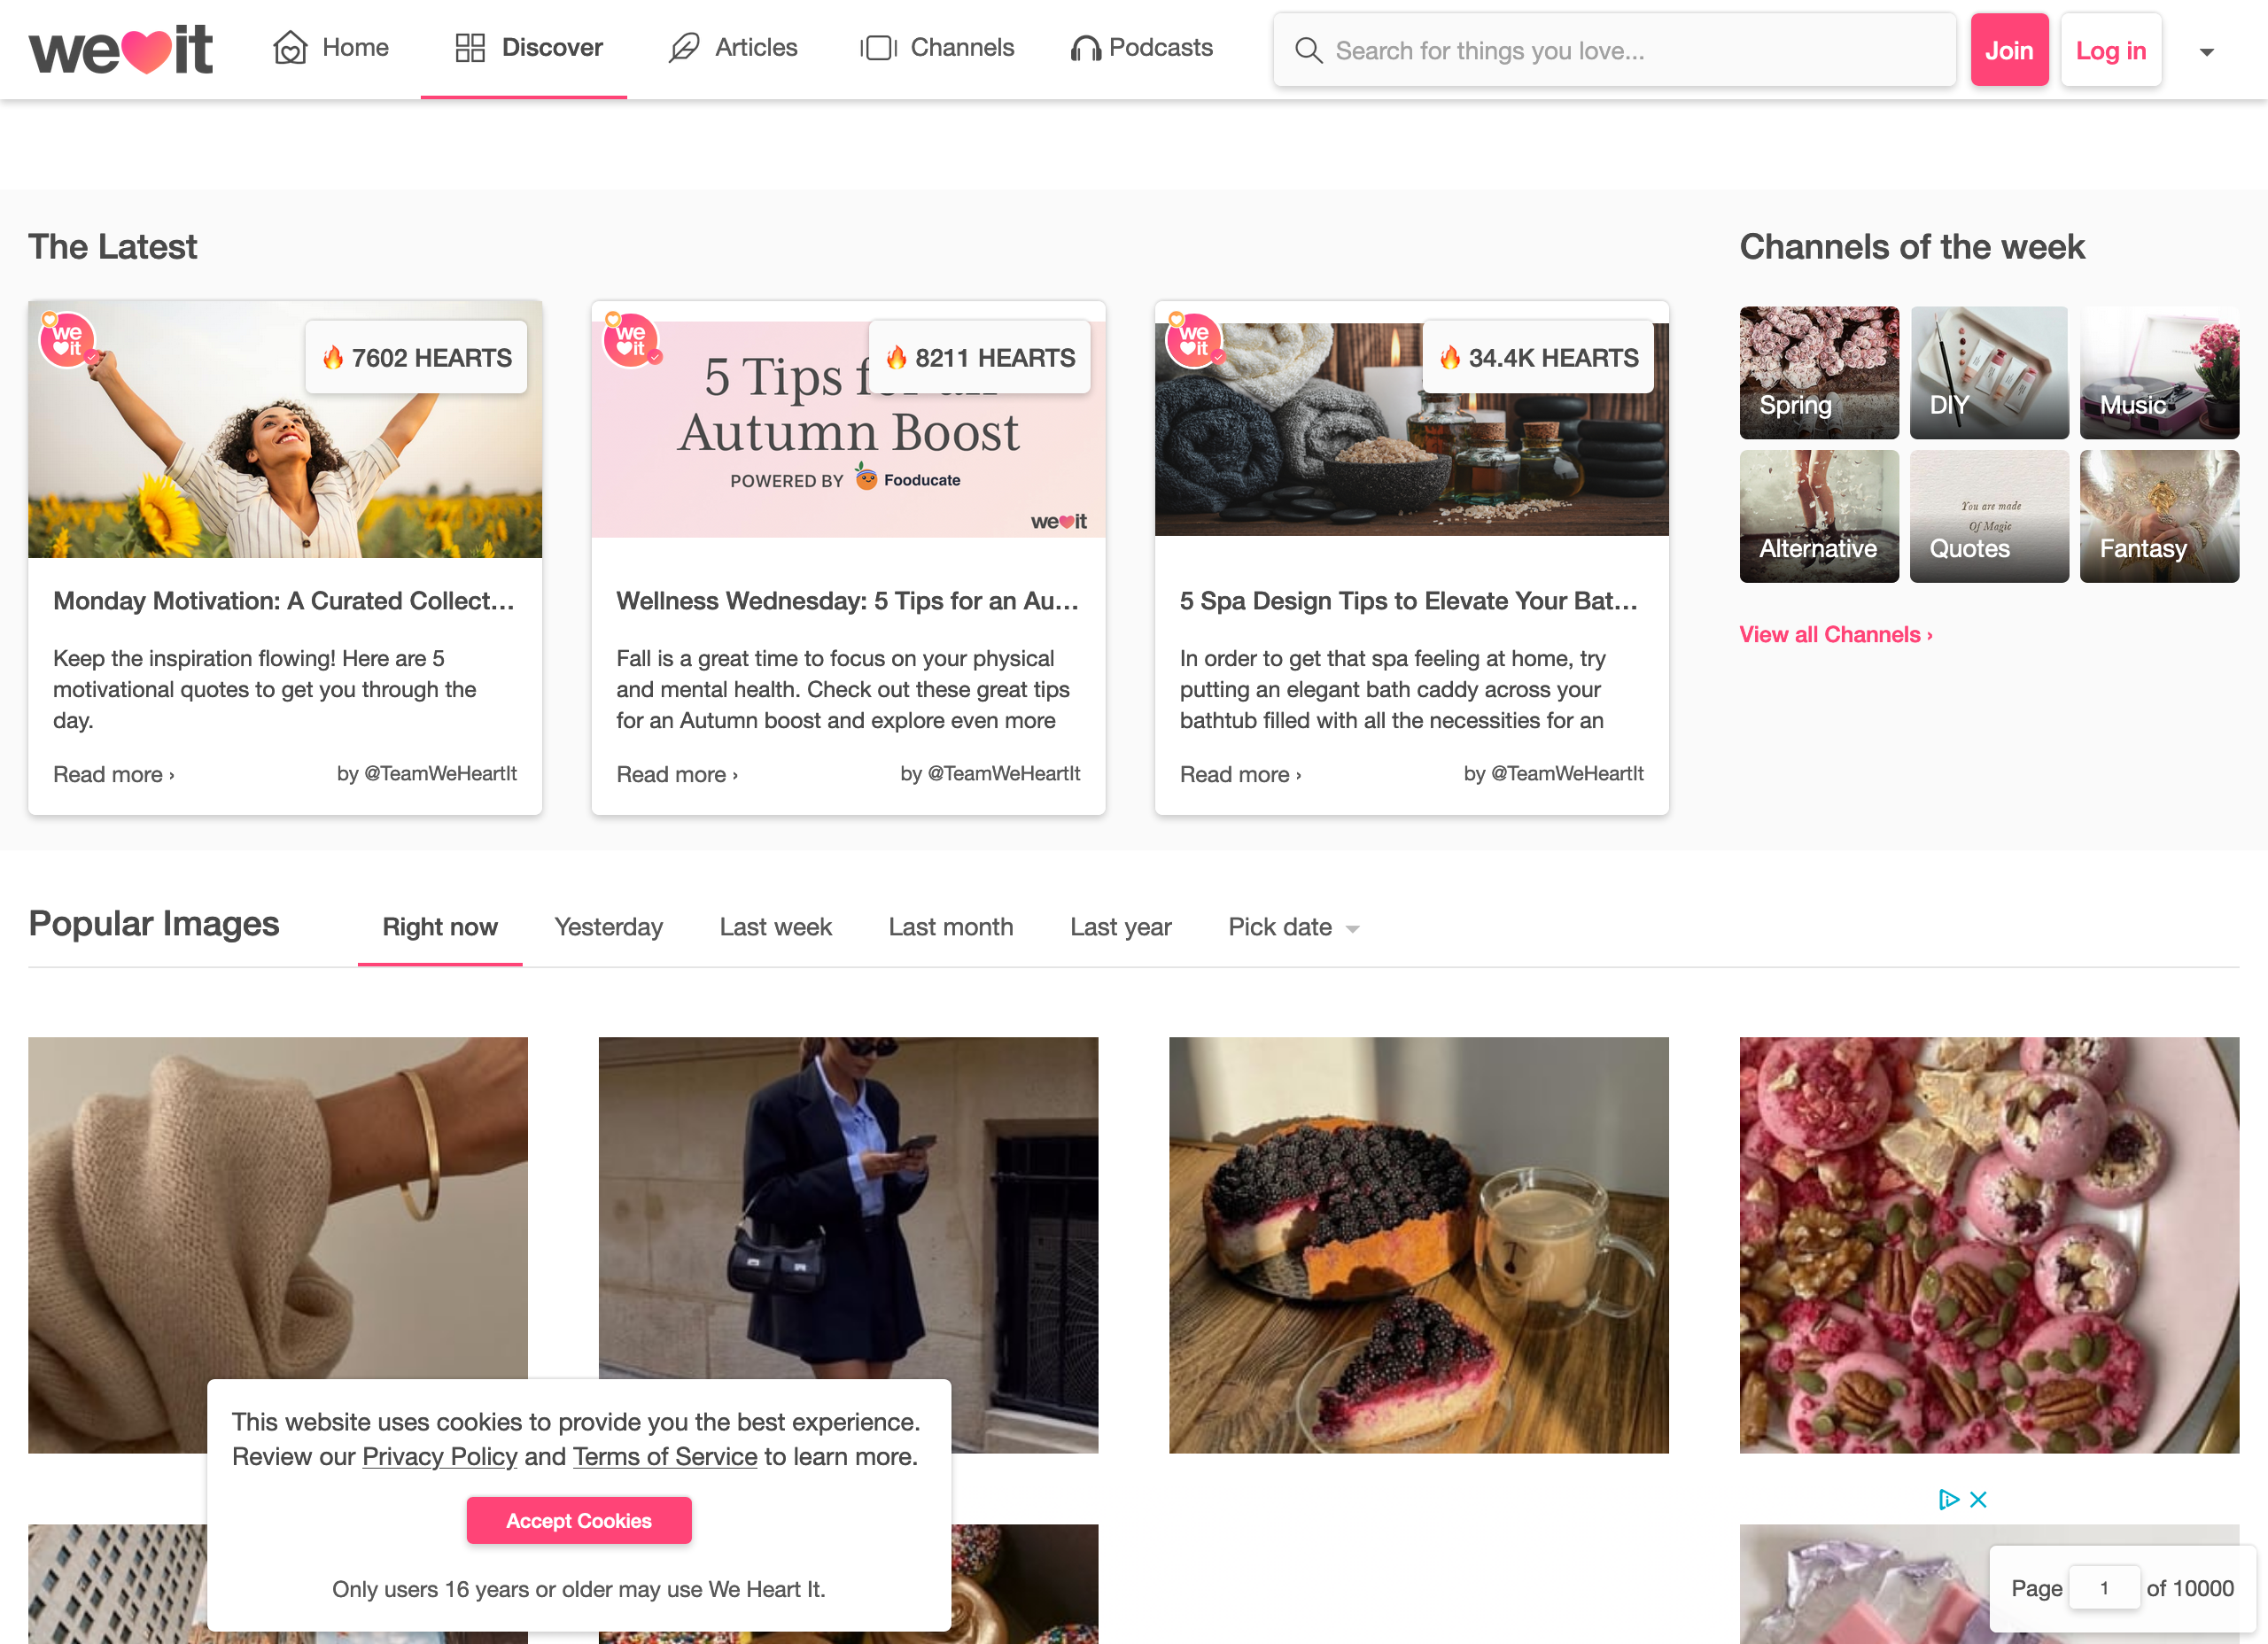Login: (2053, 14, 2175, 90)
